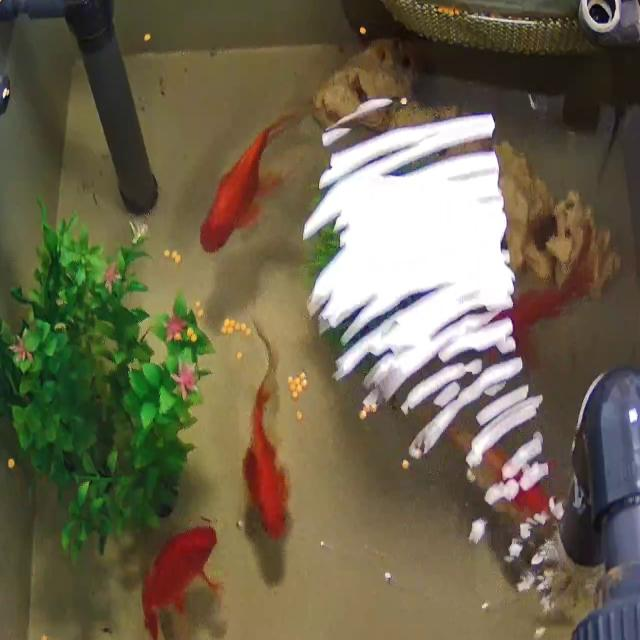fish: (205, 107, 301, 255), (492, 257, 596, 369), (240, 321, 289, 541), (141, 522, 224, 640), (475, 437, 559, 515)
